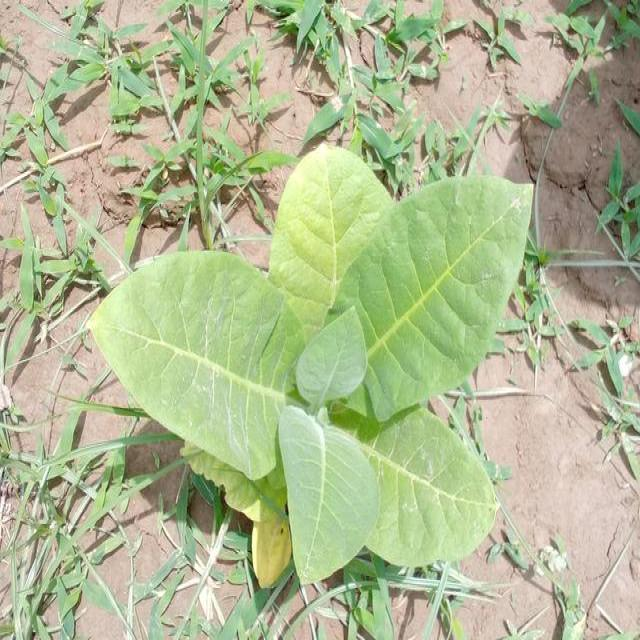crop: (122, 175, 520, 580)
